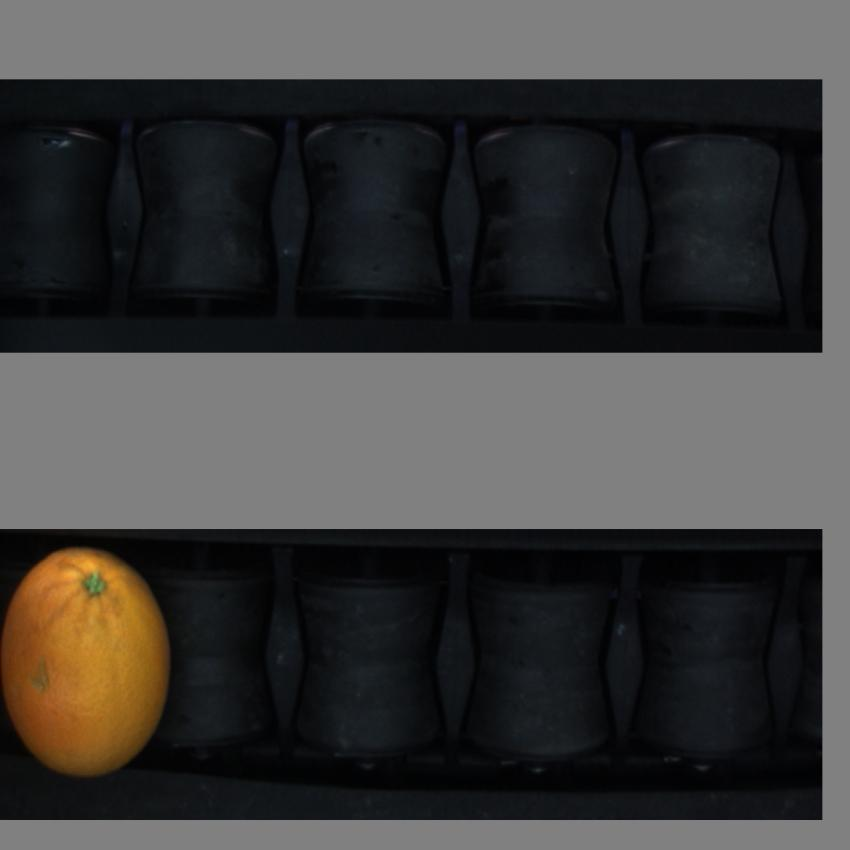Buen estado: (2, 552, 174, 788)
